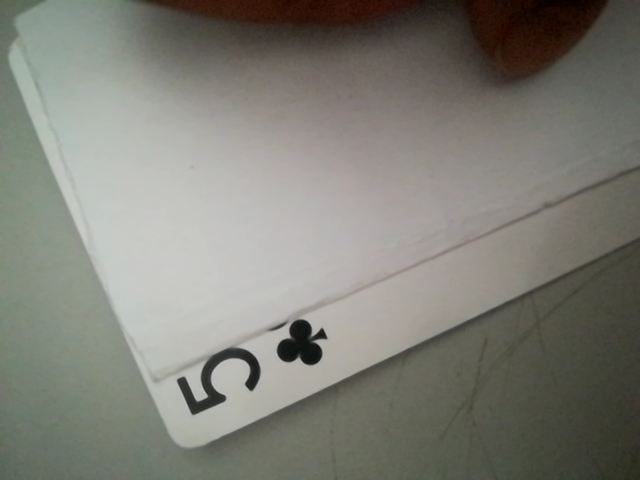mh 5: (168, 310, 336, 434)
